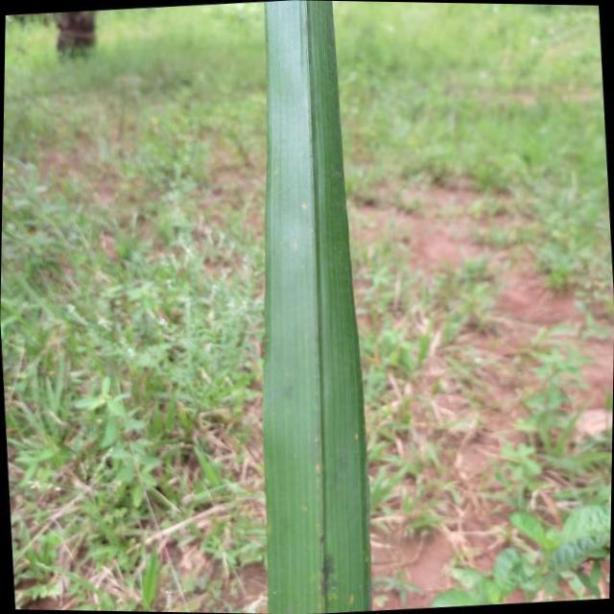Kalium: (262, 3, 375, 614)
